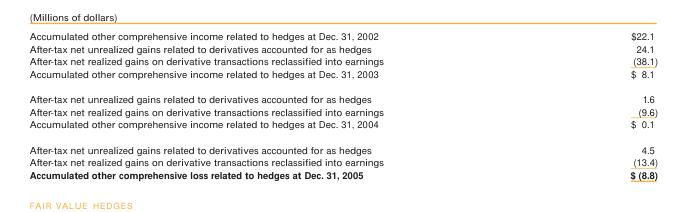table: (28, 28, 657, 180)
table column: (28, 28, 506, 180), (506, 28, 657, 180)
table row: (28, 66, 657, 85), (28, 85, 657, 104), (28, 117, 657, 136), (28, 136, 657, 155), (28, 28, 657, 41), (28, 41, 657, 54), (28, 104, 657, 117), (28, 167, 657, 180), (28, 54, 657, 66), (28, 155, 657, 167)
